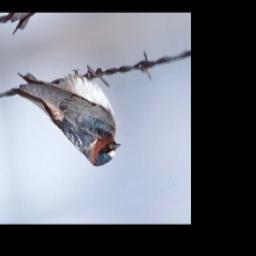Swallow: (9, 46, 122, 187)
